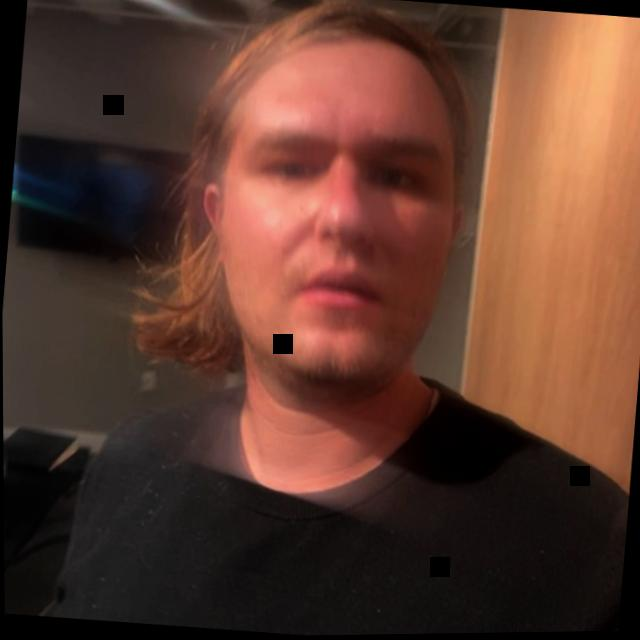NO-Mask: (104, 0, 513, 531)
